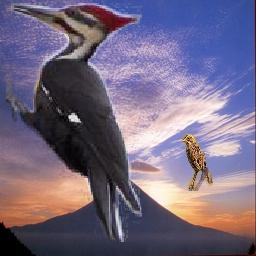Sparrow: (183, 133, 214, 191)
Woodpecker: (6, 4, 142, 243)
